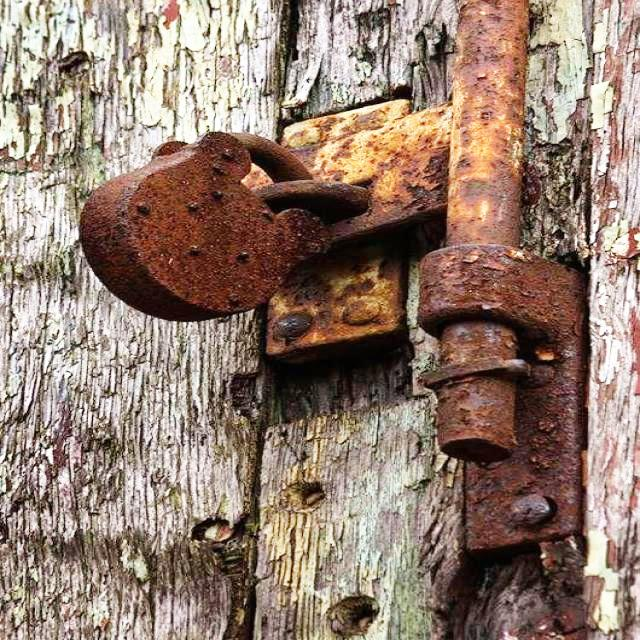Corrosion: (81, 0, 587, 552)
